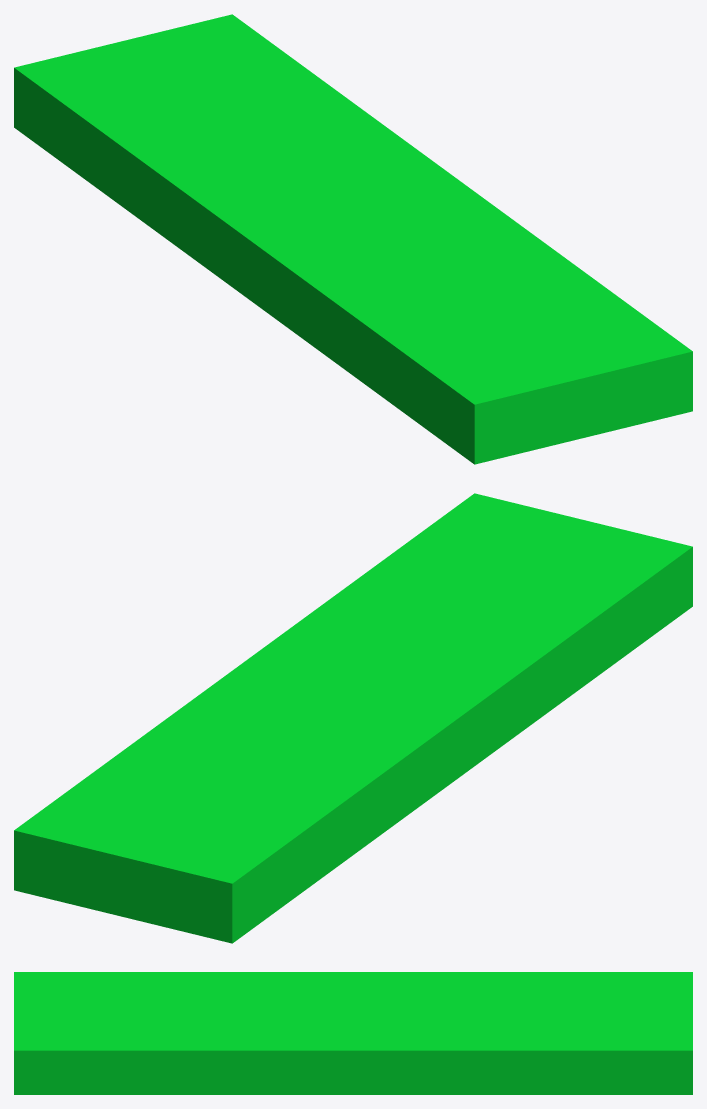
3 views of the same model, one above another, from view 1: azimuth 30°, elevation 25°; view 2: azimuth 150°, elevation 25°; view 3: azimuth 270°, elevation 25° (orthographic). The views are drawn at different scales.
Visible parts, largest first — view 1: Cube.017; view 2: Cube.017; view 3: Cube.017.
Part boxes in pixels (x1,y1,x2,y2): Cube.017: (14, 14, 692, 464); Cube.017: (14, 493, 692, 943); Cube.017: (14, 972, 692, 1094).
Size of the model in its own units: 57.55 by 15.08 by 210.
